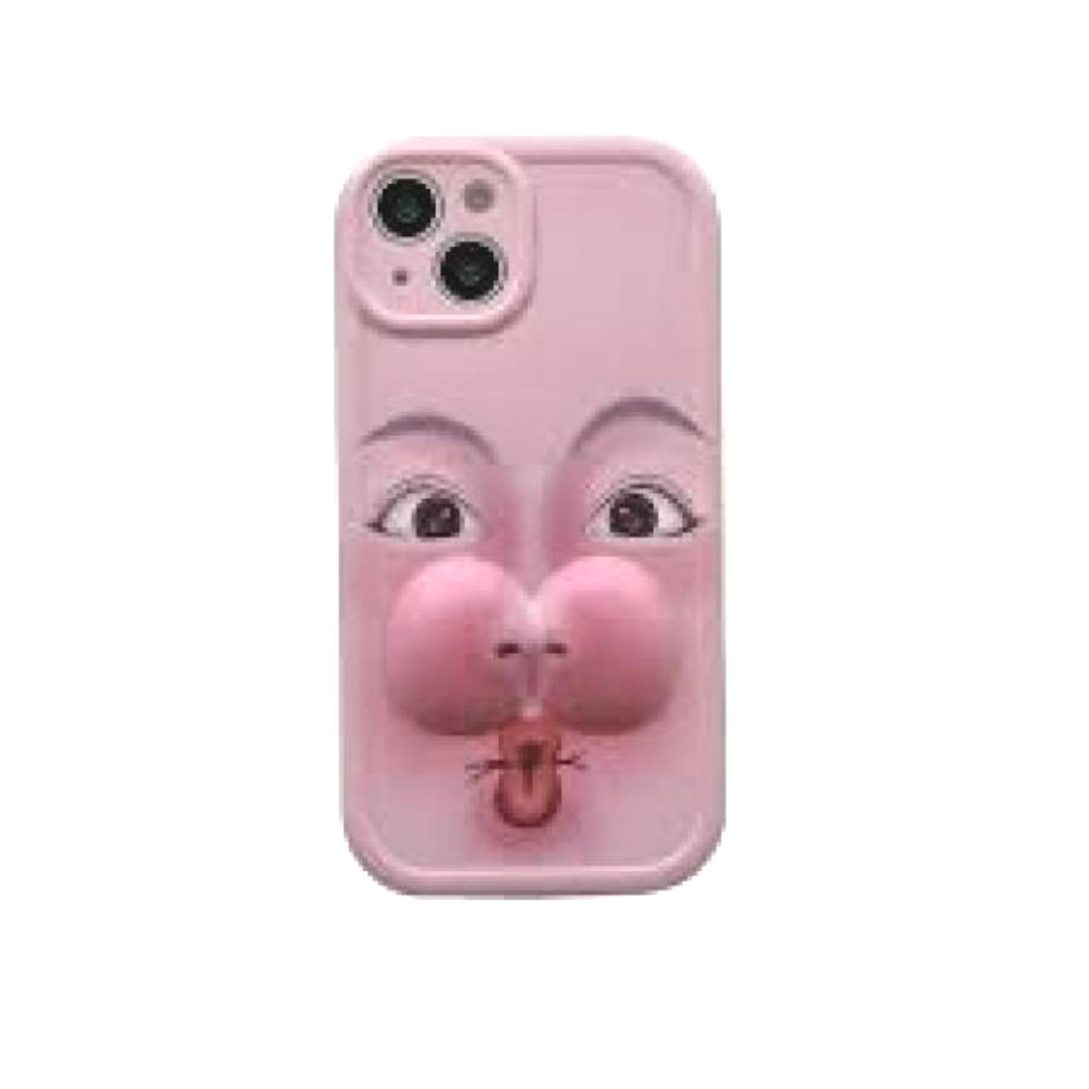phone: (324, 123, 739, 903)
